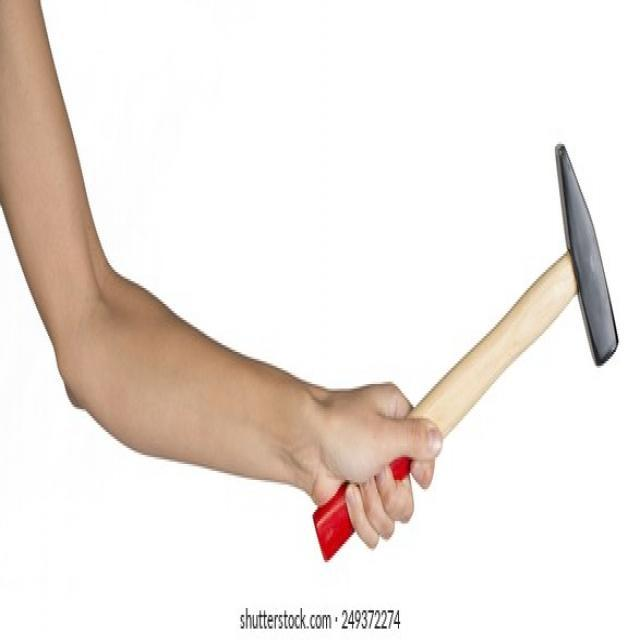hammer: (308, 135, 622, 574)
